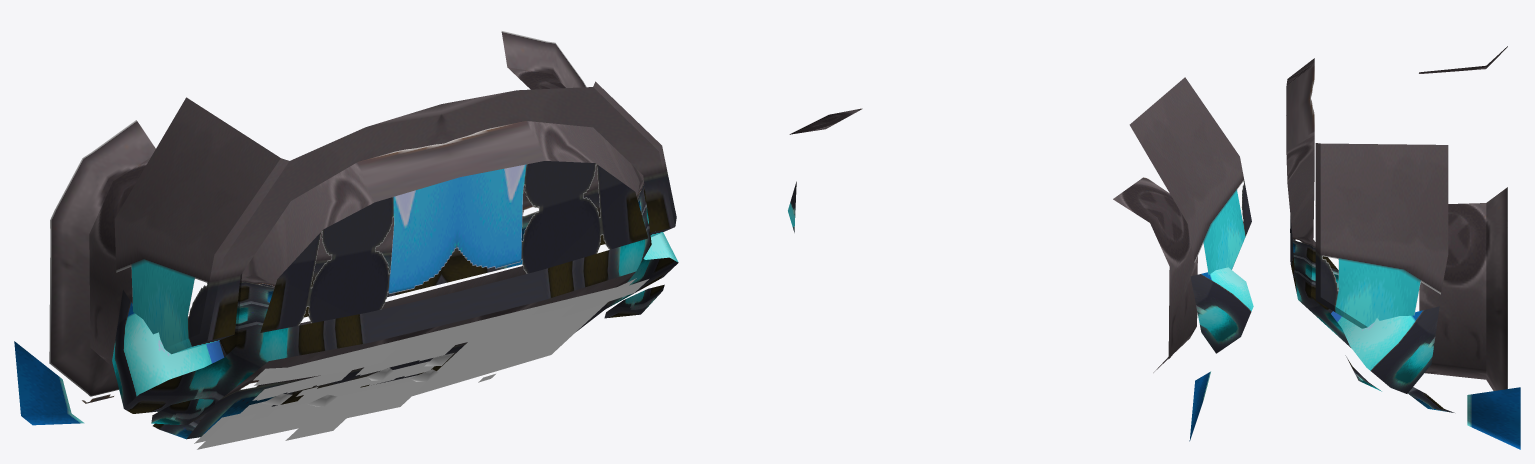
File: model_controlpanel.glb
3 renders of one model, left to right at view 1: azimuth 30°, elevation 25°; view 2: azimuth 150°, elevation 25°; view 3: azimuth 270°, elevation 25°, orthographic. The views are drawn at different scales.
Visible parts, largest first — view 1: A:\.Yandex.YandexDisk.SK SHARED FILES.Game models.1 Exported (×2); view 2: A:\.Yandex.YandexDisk.SK SHARED FILES.Game models.1 Exported; view 3: A:\.Yandex.YandexDisk.SK SHARED FILES.Game models.1 Exported.
Boxes of the visible parts, x1,y1,x2,y2 form: A:\.Yandex.YandexDisk.SK SHARED FILES.Game models.1 Exported (×2): (14,31,678,449); A:\.Yandex.YandexDisk.SK SHARED FILES.Game models.1 Exported: (788,77,1253,441); A:\.Yandex.YandexDisk.SK SHARED FILES.Game models.1 Exported: (1286,46,1520,449).
Bounding box in the file's own units: 3.24 × 1.86 × 1.43.
Materials: 2 (1 with a texture image).
